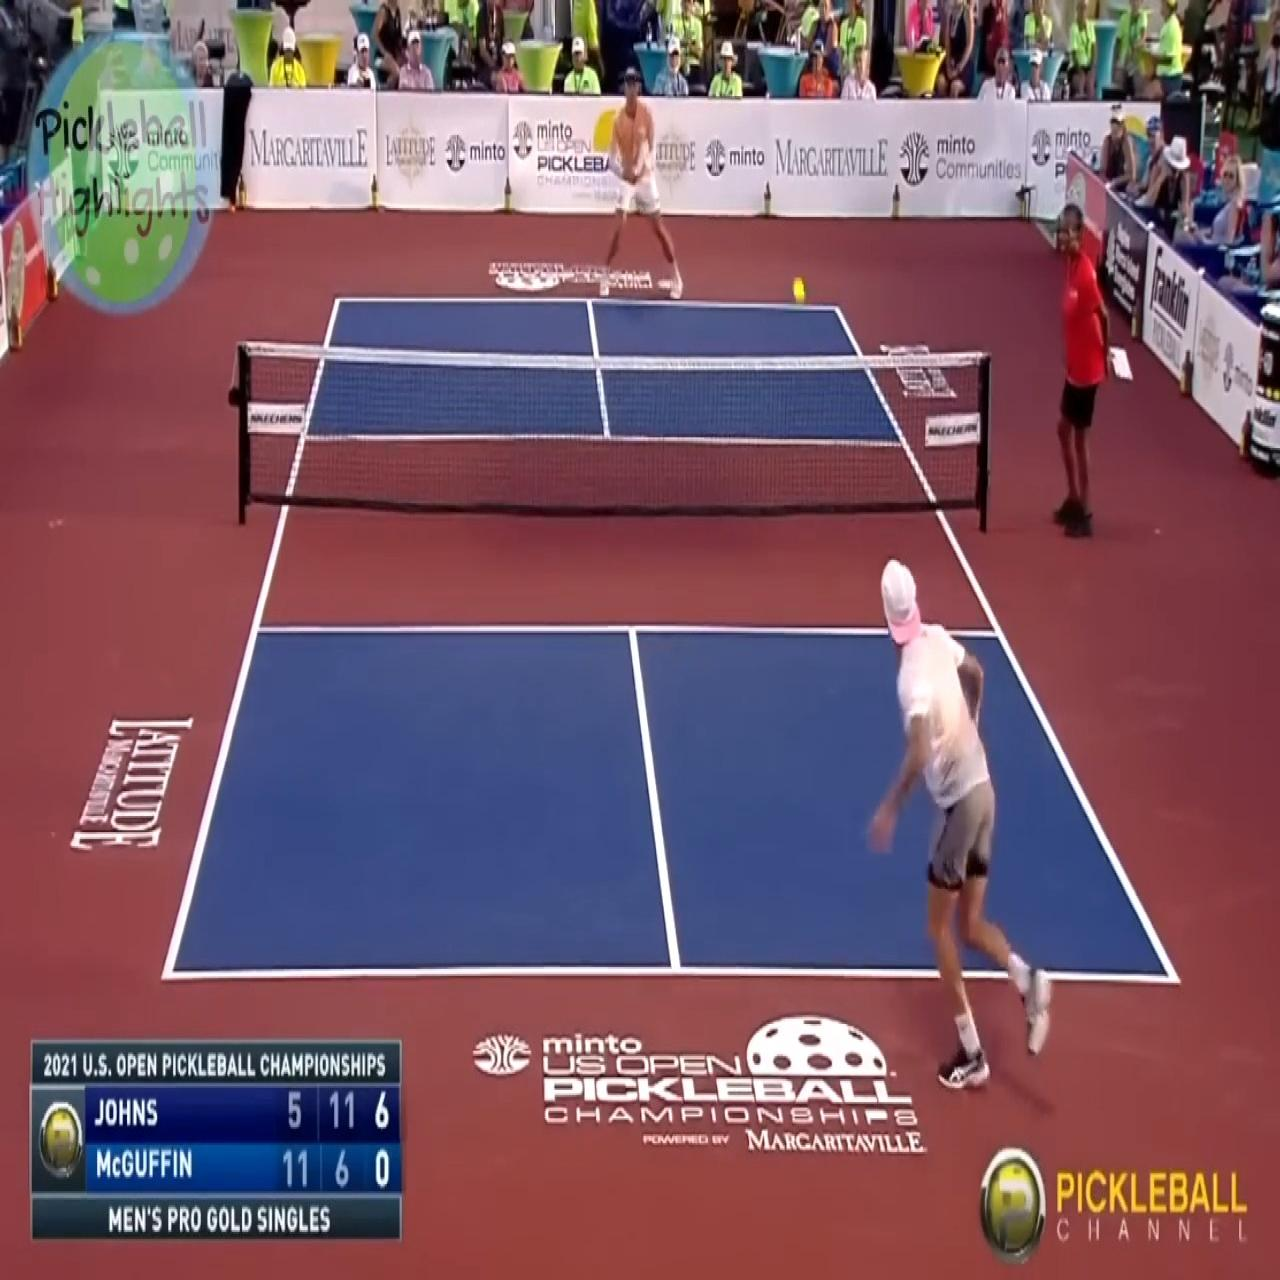pickleball: (792, 275, 806, 302)
